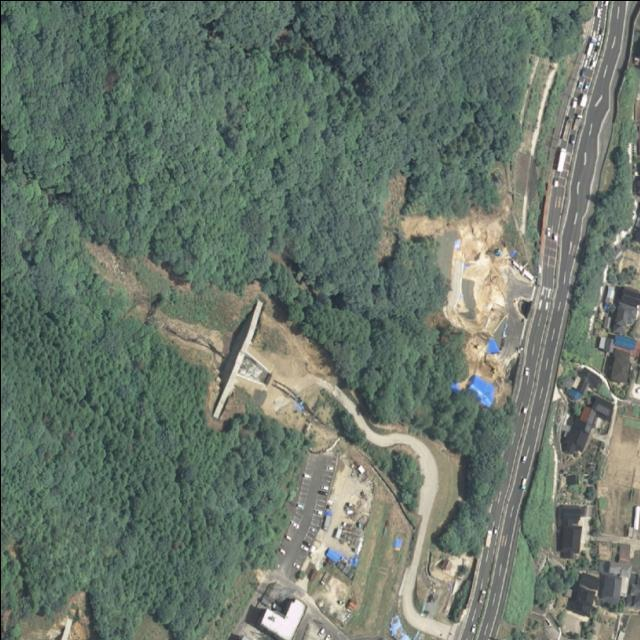landslide: (86, 241, 240, 376), (401, 203, 509, 371), (0, 591, 89, 640)
